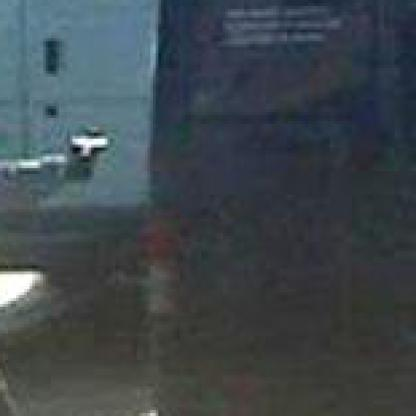gun: (56, 121, 115, 177)
